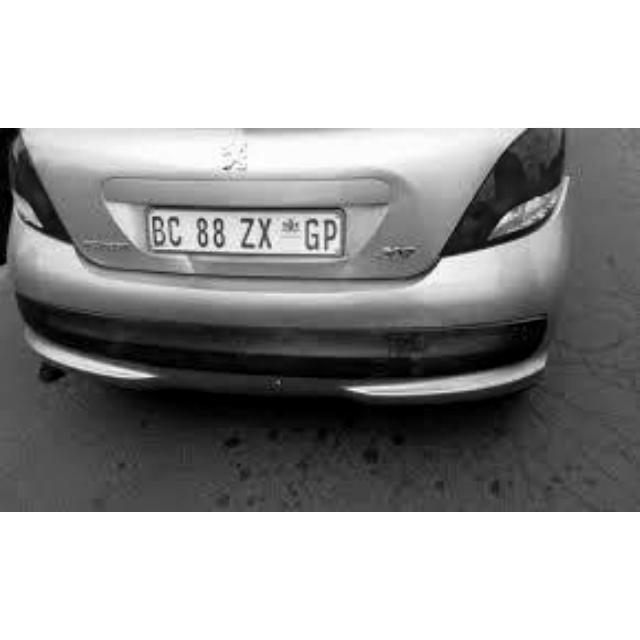rear-bumper-dent: (78, 279, 499, 402)
